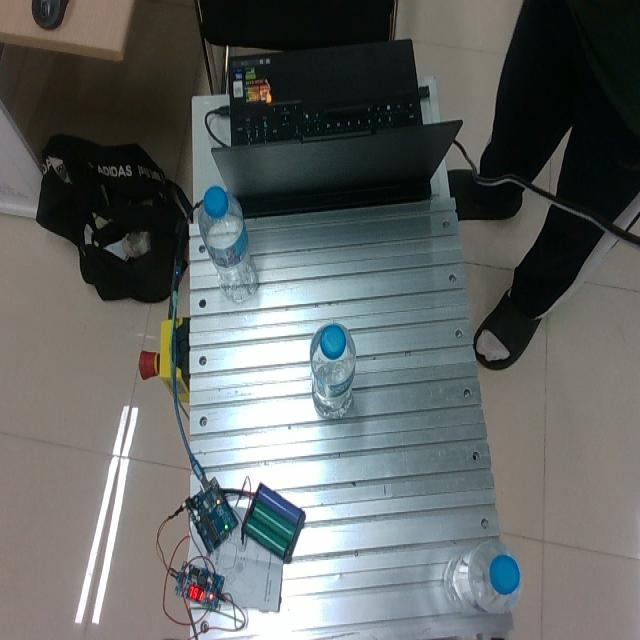lavie: (199, 184, 259, 303), (443, 540, 523, 613), (309, 322, 356, 418)
